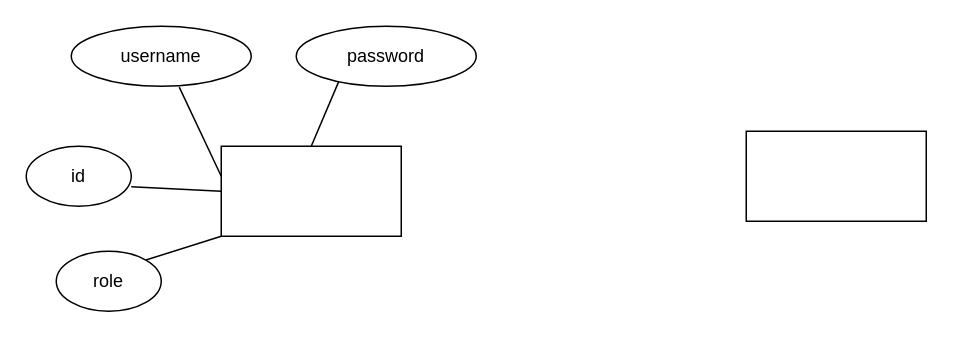
Image size: 953x338. Some labels were removed from this diagram. Here are the shapes that lost their labels. From the top down, the centre of each, then its label:
At point 310,190: "User".
At point 835,175: "Student".
